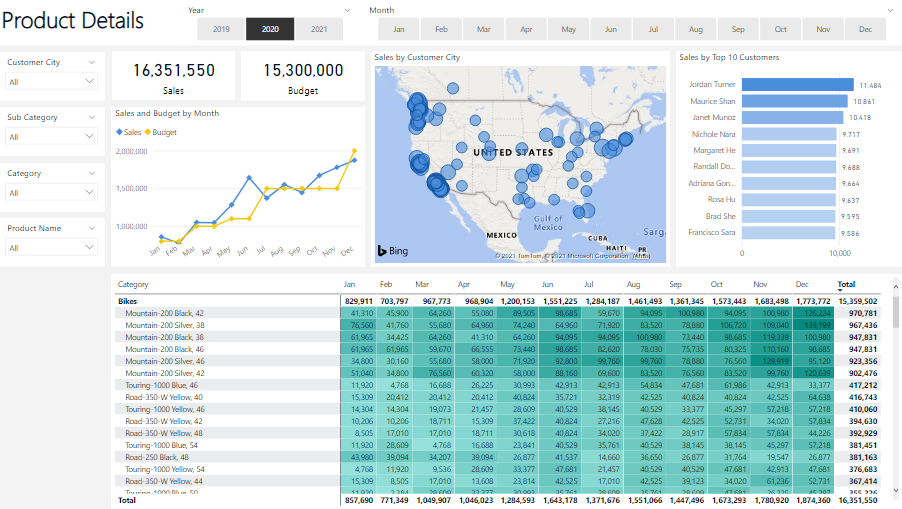

This screenshot's page, from the dashboard's own definition file:
{"tool":"powerbi","page":{"name":"Product Details","canvas":[1280,720],"ordinal":2},"visuals":[{"type":"textbox","box":[0,0,1280,64],"z":0},{"type":"slicer","fields":{"Values":["DIM_Calendar.Year"]},"box":[256,0,256,64],"z":1000},{"type":"slicer","fields":{"Values":["DIM_Calendar.MonthShort"]},"box":[512,0,768,64],"z":2000},{"type":"slicer","fields":{"Values":["DIM_Customers.Customer City"]},"box":[0,73,150.5,69.3],"z":3000},{"type":"slicer","fields":{"Values":["DIM_Products.Product Category"]},"box":[0,229.9,150.5,69.3],"z":4000},{"type":"slicer","fields":{"Values":["DIM_Products.Product Name"]},"box":[0,308.4,150.5,69.3],"z":5000},{"type":"slicer","fields":{"Values":["DIM_Products.Sub Category"]},"box":[0,151.4,150.5,69.3],"z":6000},{"type":"lineChart","fields":{"Category":["DIM_Calendar.MonthShort"],"Y":["Analysis Metrics.Sales","Analysis Metrics.Budget"]},"box":[159.8,151.8,358.7,226.4],"z":7000},{"type":"card","fields":{"Values":["Analysis Metrics.Sales"]},"box":[160.7,72.8,174,69.2],"z":8000},{"type":"map","fields":{"Category":["DIM_Customers.Customer City"],"Size":["Analysis Metrics.Sales"]},"box":[527.3,72.8,423.5,304.5],"z":9000},{"type":"card","fields":{"Values":["Analysis Metrics.Budget"]},"box":[343.6,72.8,174.9,70.1],"z":10000},{"type":"pivotTable","fields":{"Rows":["DIM_Products.Product Category","DIM_Products.Product Name"],"Columns":["DIM_Calendar.MonthShort"],"Values":["Analysis Metrics.Sales"]},"box":[159.8,387.1,1120.4,332.9],"z":11000},{"type":"clusteredBarChart","title":"Sales by Top 10 Product","fields":{"Category":["DIM_Products.Product Name"],"Y":["Analysis Metrics.Sales"]},"box":[959.7,72.8,320.5,304.5],"z":12000},{"type":"lineChart","fields":{"Category":["DIM_Calendar.MonthShort"],"Y":["Analysis Metrics.Sales","Analysis Metrics.Budget"]},"box":[161.3,151.4,357.9,224.9],"z":12001},{"type":"barChart","title":"Sales by Top 10 Customers","fields":{"Category":["DIM_Customers.Full Name"],"Y":["Analysis Metrics.Sales"]},"box":[959.1,72.1,321.1,304.1],"z":12002}]}

Visuals, with their boxes in screenshot pixels (x1, y1, x2, y2), scaled from the page's 1280x720 canvas onto the 902x509 screenshot:
textbox: Rect(0, 0, 901, 45)
slicer - DIM_Calendar.Year: Rect(180, 0, 361, 45)
slicer - DIM_Calendar.MonthShort: Rect(361, 0, 901, 45)
slicer - DIM_Customers.Customer City: Rect(0, 52, 106, 101)
slicer - DIM_Products.Product Category: Rect(0, 163, 106, 212)
slicer - DIM_Products.Product Name: Rect(0, 218, 106, 267)
slicer - DIM_Products.Sub Category: Rect(0, 107, 106, 156)
lineChart - DIM_Calendar.MonthShort x Analysis Metrics.Sales: Rect(113, 107, 365, 267)
card - Analysis Metrics.Sales: Rect(113, 51, 236, 100)
map - DIM_Customers.Customer City x Analysis Metrics.Sales: Rect(372, 51, 670, 267)
card - Analysis Metrics.Budget: Rect(242, 51, 365, 101)
pivotTable - DIM_Products.Product Category x DIM_Products.Product Name: Rect(113, 274, 901, 508)
"Sales by Top 10 Product" clusteredBarChart: Rect(676, 51, 901, 267)
lineChart - DIM_Calendar.MonthShort x Analysis Metrics.Sales: Rect(114, 107, 366, 266)
"Sales by Top 10 Customers" barChart: Rect(676, 51, 901, 266)
